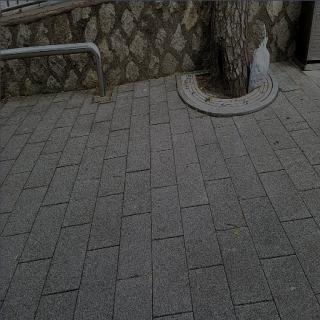Garbage: (247, 27, 273, 91)
